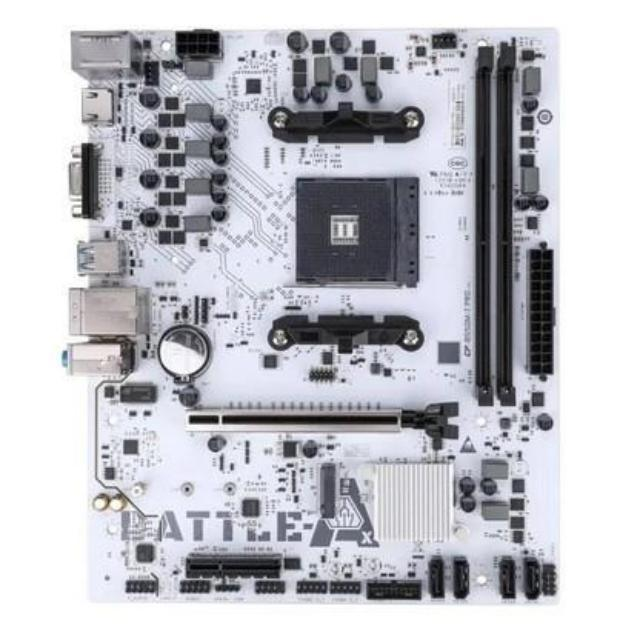Mainboard: (45, 23, 570, 614)
